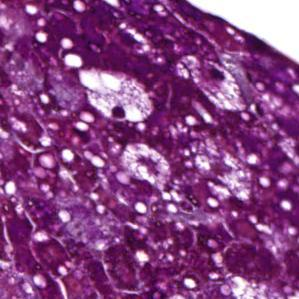ballooning: (78, 66, 155, 124), (176, 55, 247, 113), (121, 141, 172, 189)
